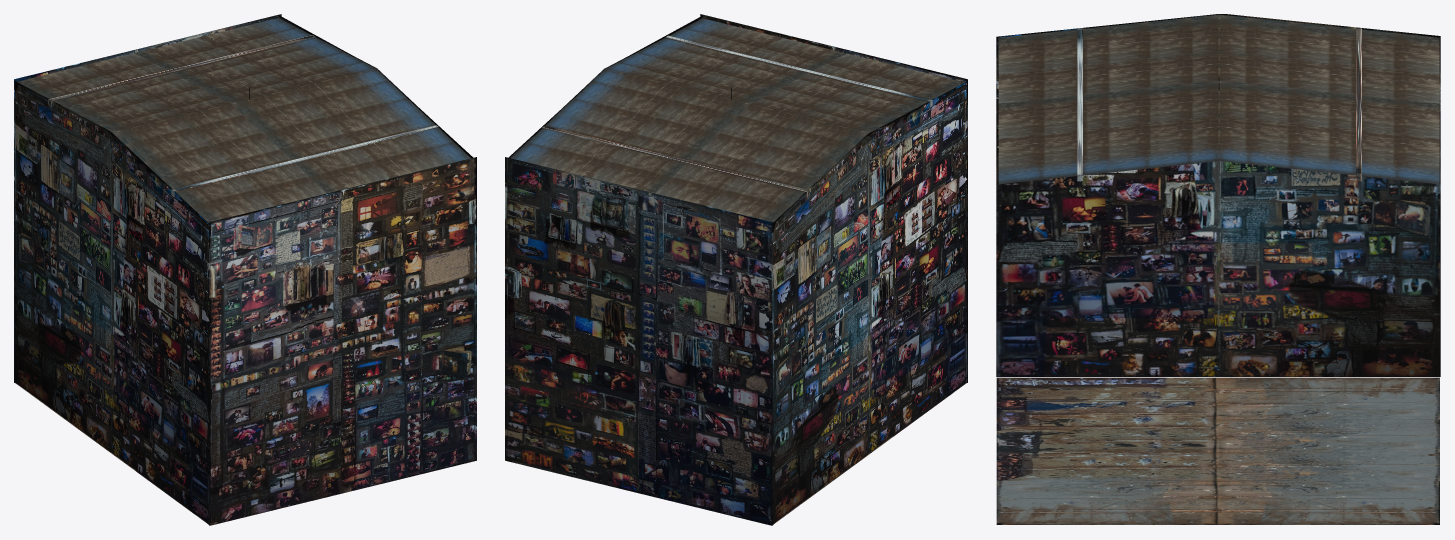
File: huetteblender.glb
The picture shows the model from 3 angles, left to right: view 1: azimuth 30°, elevation 25°; view 2: azimuth 150°, elevation 25°; view 3: azimuth 270°, elevation 25°; orthographic projection. The views are drawn at different scales.
Visible parts, largest first — view 1: kleinewand1, großewand2, dach.002, dach, kleinewand2, Cube.001, Cube, großewand1; view 2: kleinewand2, großewand2, dach, dach.002, kleinewand1, Cube, Cube.001, großewand1; view 3: großewand2, bodenyo, dach.002, dach, Cube, Cube.001.
Part boxes in pixels (x1,y1,x2,y2): kleinewand1: [209, 157, 476, 525]; großewand2: [14, 81, 210, 524]; dach.002: [112, 68, 470, 223]; dach: [17, 18, 377, 132]; kleinewand2: [14, 14, 281, 382]; Cube.001: [171, 125, 438, 197]; Cube: [48, 35, 315, 106]; großewand1: [278, 15, 474, 459]; kleinewand2: [505, 157, 772, 525]; großewand2: [771, 82, 967, 524]; dach: [511, 68, 868, 222]; dach.002: [604, 18, 964, 133]; kleinewand1: [700, 14, 967, 382]; Cube: [542, 125, 809, 197]; Cube.001: [665, 35, 932, 107]; großewand1: [507, 15, 703, 459]; großewand2: [996, 14, 1440, 376]; bodenyo: [996, 377, 1439, 524]; dach.002: [998, 14, 1220, 184]; dach: [1218, 14, 1439, 184]; Cube: [1356, 28, 1361, 181]; Cube.001: [1077, 28, 1082, 181].
Bounding box in the file's own units: 1.01 × 1.2 × 1.27.
12 materials, 9 textured.
